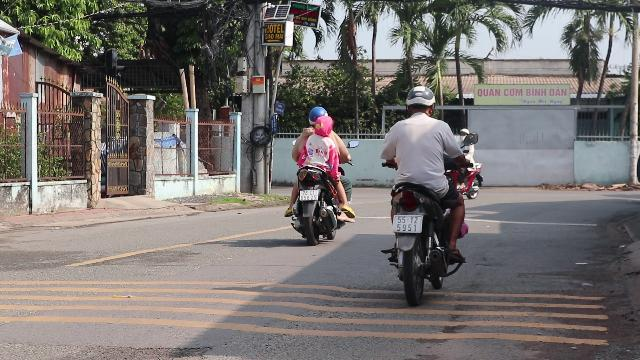helmet: (404, 86, 436, 116), (314, 114, 334, 136), (307, 105, 327, 122)
licenseplate: (394, 214, 422, 232), (298, 189, 318, 201)
motorcyclist: (377, 84, 473, 296), (282, 104, 354, 244)
